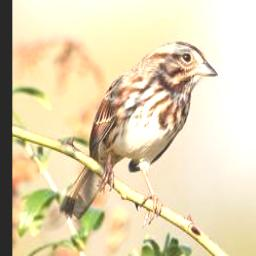Sparrow: (58, 40, 218, 229)
